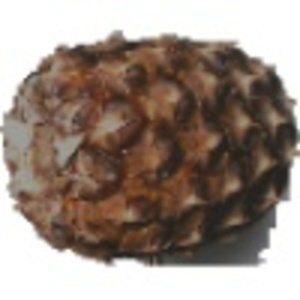abacaxi: (3, 31, 294, 263)
